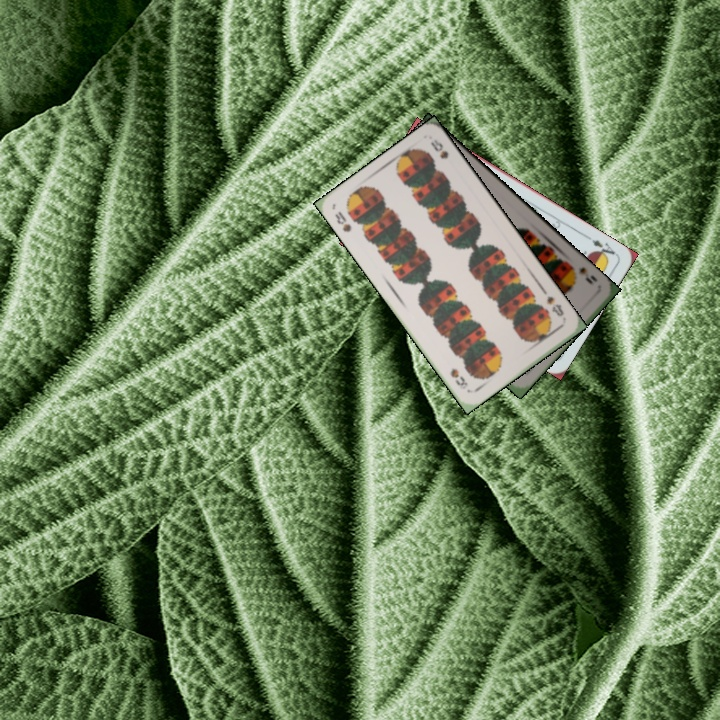EA: (588, 235, 619, 261)
S8: (542, 291, 567, 319), (330, 207, 354, 235)
S9: (574, 263, 600, 287)
